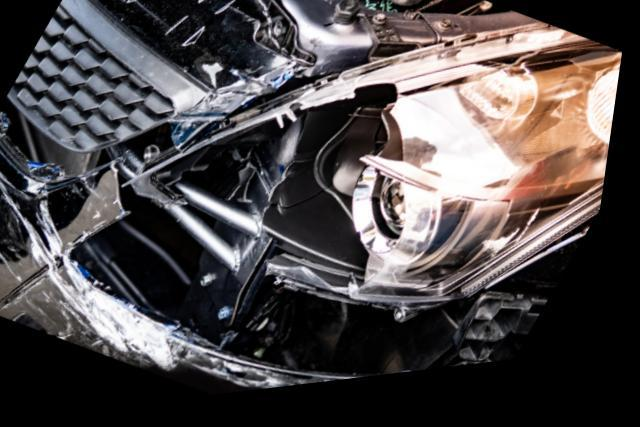crack: (240, 213, 284, 336)
lamp broken: (276, 57, 626, 309)
no part: (92, 0, 585, 115), (143, 123, 296, 276)
scratch: (0, 182, 360, 396)
